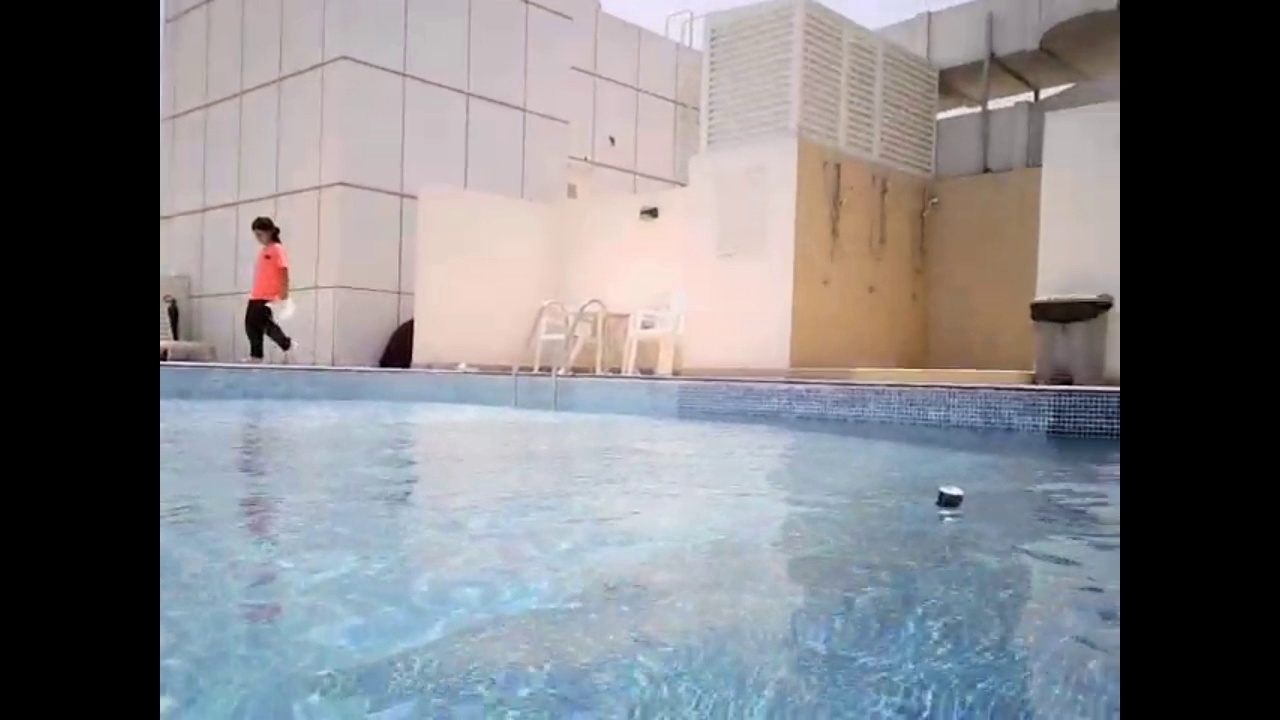debris: (932, 479, 970, 519)
